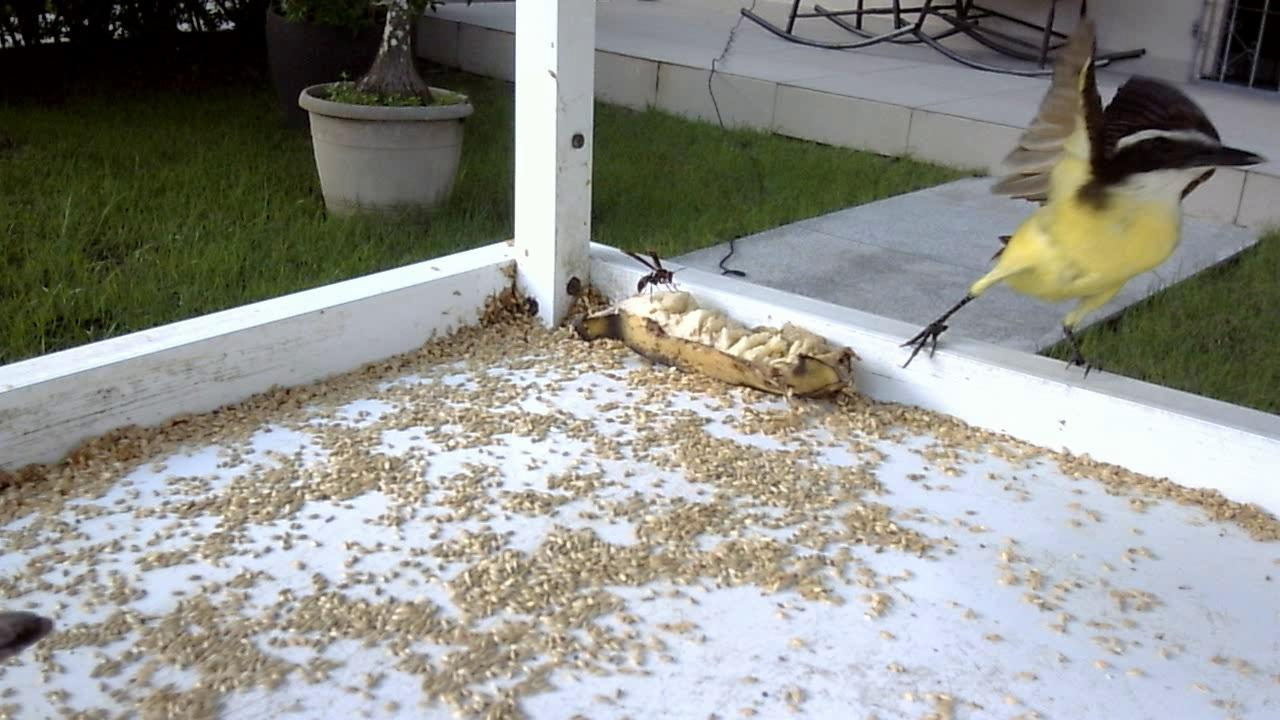bem_te_vi: (884, 23, 1278, 398)
